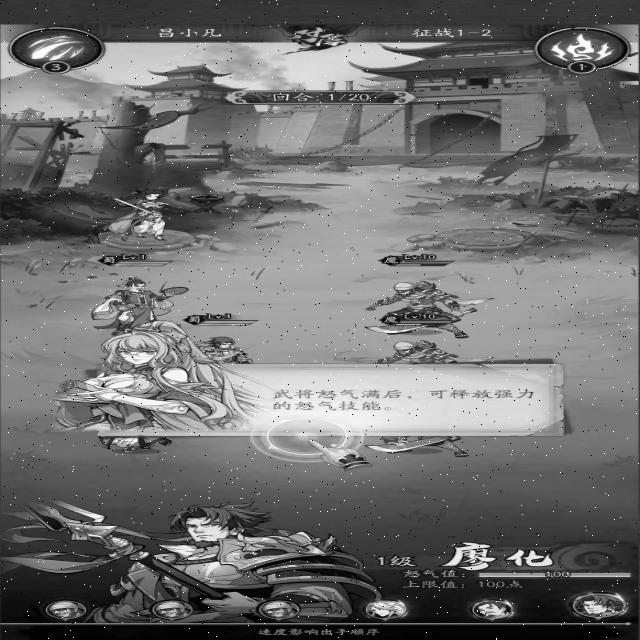hint-guide: (39, 330, 573, 464)
